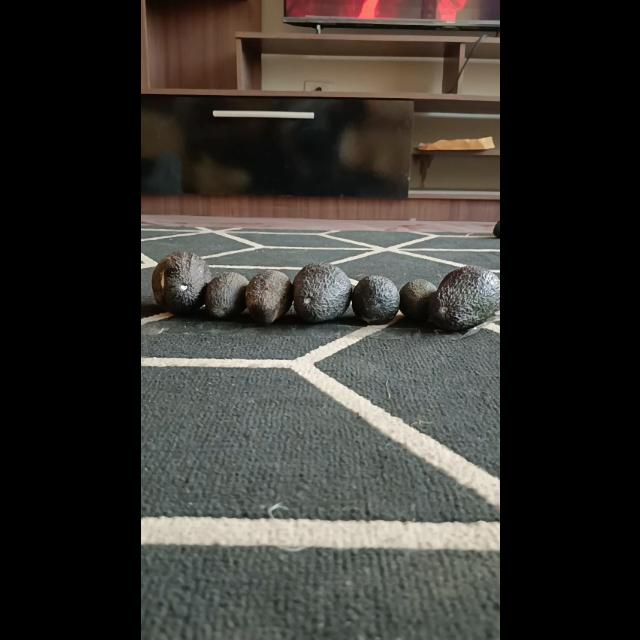Primera: (428, 265, 498, 331), (150, 250, 210, 314), (292, 262, 351, 322)
Segunda: (244, 270, 292, 324), (352, 274, 401, 324), (204, 272, 250, 321)
Tercera: (398, 278, 438, 322)
